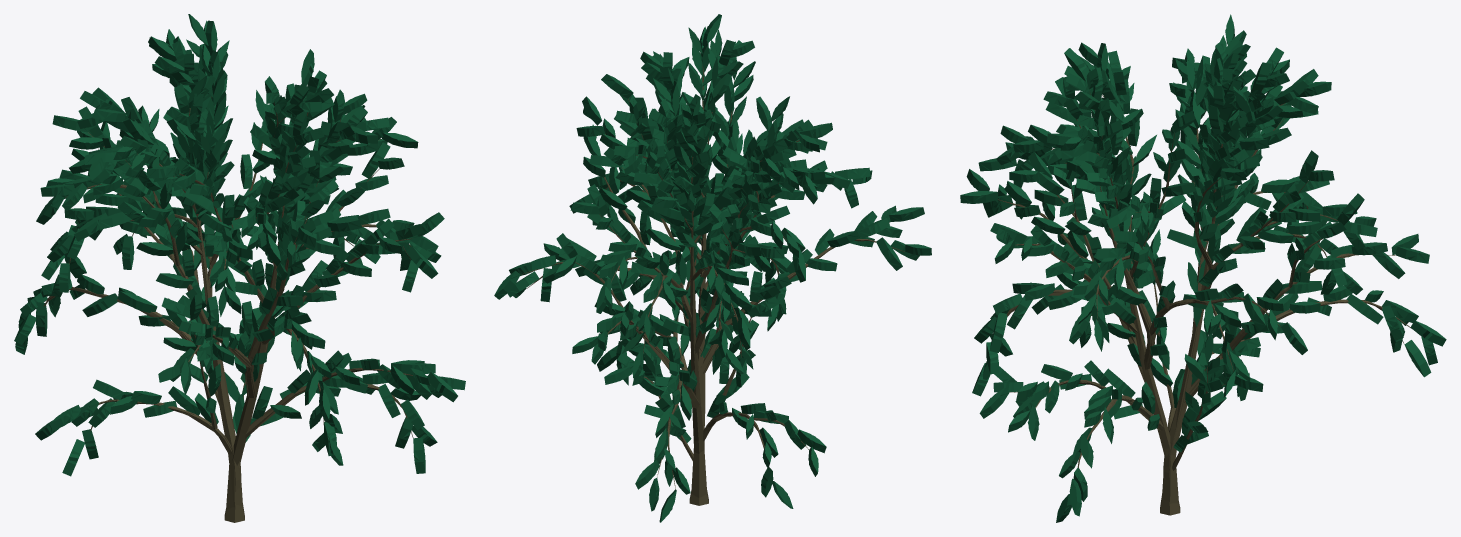
File: littleLeavesShrubL.fbx
The picture shows the model from 3 angles, left to right: view 1: azimuth 30°, elevation 25°; view 2: azimuth 150°, elevation 25°; view 3: azimuth 270°, elevation 25°; orthographic projection. The views are drawn at different scales.
Parts seen in each view (by area): view 1: littleLeavesShrubL, littleLeavesShrubL1, littleLeavesShrubL2; view 2: littleLeavesShrubL, littleLeavesShrubL1, littleLeavesShrubL2; view 3: littleLeavesShrubL, littleLeavesShrubL1, littleLeavesShrubL2.
Boxes of the visible parts, bbox=[...] form: littleLeavesShrubL: bbox=[14, 14, 465, 491]; littleLeavesShrubL1: bbox=[15, 14, 459, 522]; littleLeavesShrubL2: bbox=[15, 20, 457, 509]; littleLeavesShrubL: bbox=[494, 14, 931, 522]; littleLeavesShrubL1: bbox=[495, 14, 928, 521]; littleLeavesShrubL2: bbox=[495, 25, 929, 516]; littleLeavesShrubL: bbox=[960, 14, 1446, 522]; littleLeavesShrubL1: bbox=[963, 17, 1446, 522]; littleLeavesShrubL2: bbox=[961, 22, 1438, 513].
Bounding box in the file's own units: 98.28 × 132 × 122.
